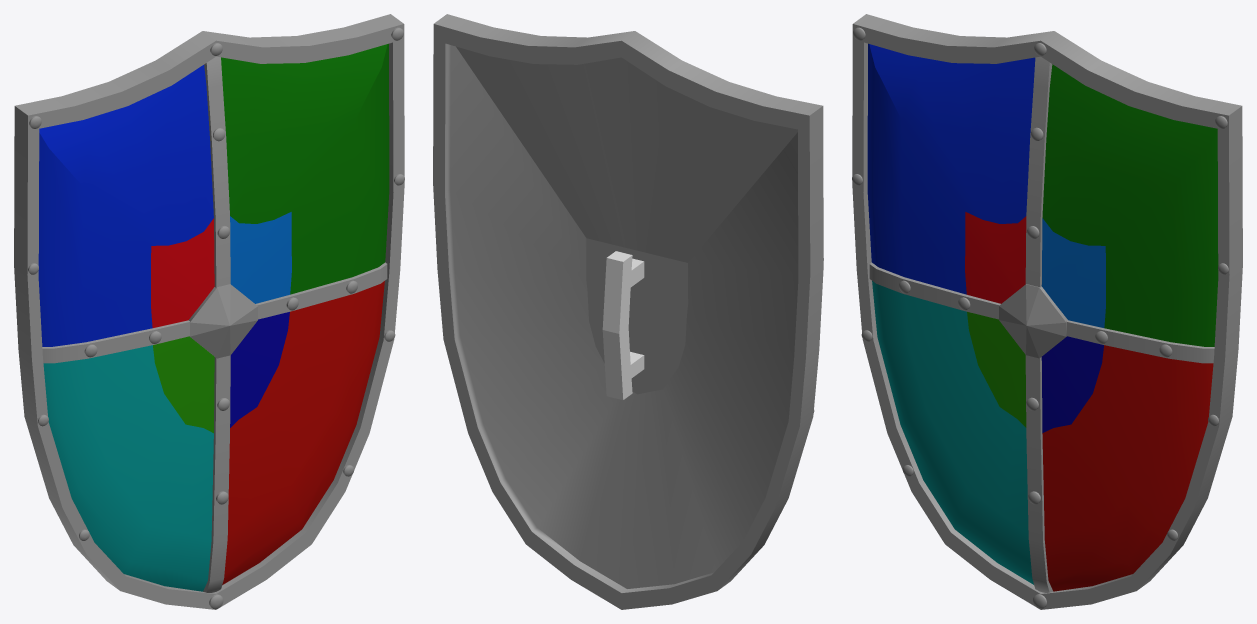
The model's file is Shield.fbx.
The picture shows the model from 3 angles, left to right: view 1: azimuth 30°, elevation 25°; view 2: azimuth 150°, elevation 25°; view 3: azimuth 330°, elevation 25°; orthographic projection.
Parts seen in each view (by area): view 1: Shield, Bolts; view 2: Shield, Handle; view 3: Shield, Bolts.
Part boxes in pixels (bbox=[...]): Shield: bbox=[14, 14, 404, 609]; Bolts: bbox=[28, 27, 404, 609]; Shield: bbox=[433, 14, 823, 609]; Handle: bbox=[602, 251, 644, 399]; Shield: bbox=[852, 14, 1242, 609]; Bolts: bbox=[852, 27, 1228, 608].
Size of the model in its own units: 121 by 175 by 20.56.
